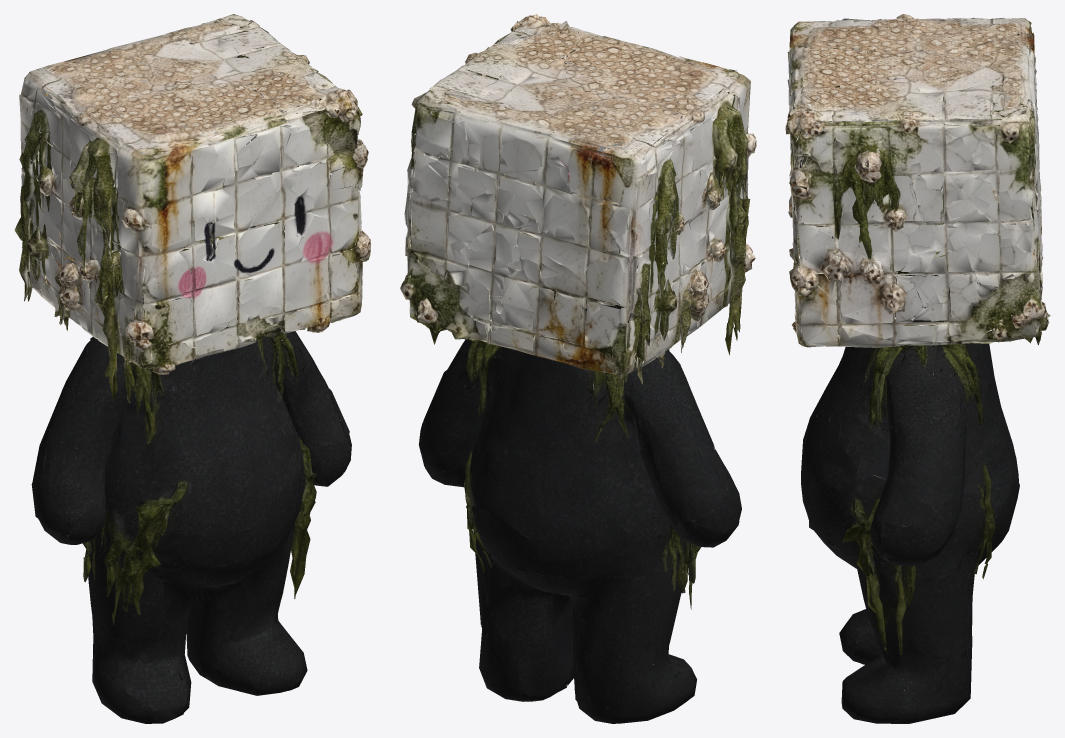
File: cubo_calmo.glb
3 renders of one model, left to right at view 1: azimuth 30°, elevation 25°; view 2: azimuth 150°, elevation 25°; view 3: azimuth 270°, elevation 25°, orthographic.
Visible parts, largest first — view 1: cubo_calmo; view 2: cubo_calmo; view 3: cubo_calmo.
Part boxes in pixels (x1,y1,x2,y2): cubo_calmo: [14, 14, 370, 723]; cubo_calmo: [400, 14, 756, 723]; cubo_calmo: [785, 14, 1050, 723].
Bounding box in the file's own units: 0.6266 × 1.2 × 0.4646.
1 material, 1 textured.
